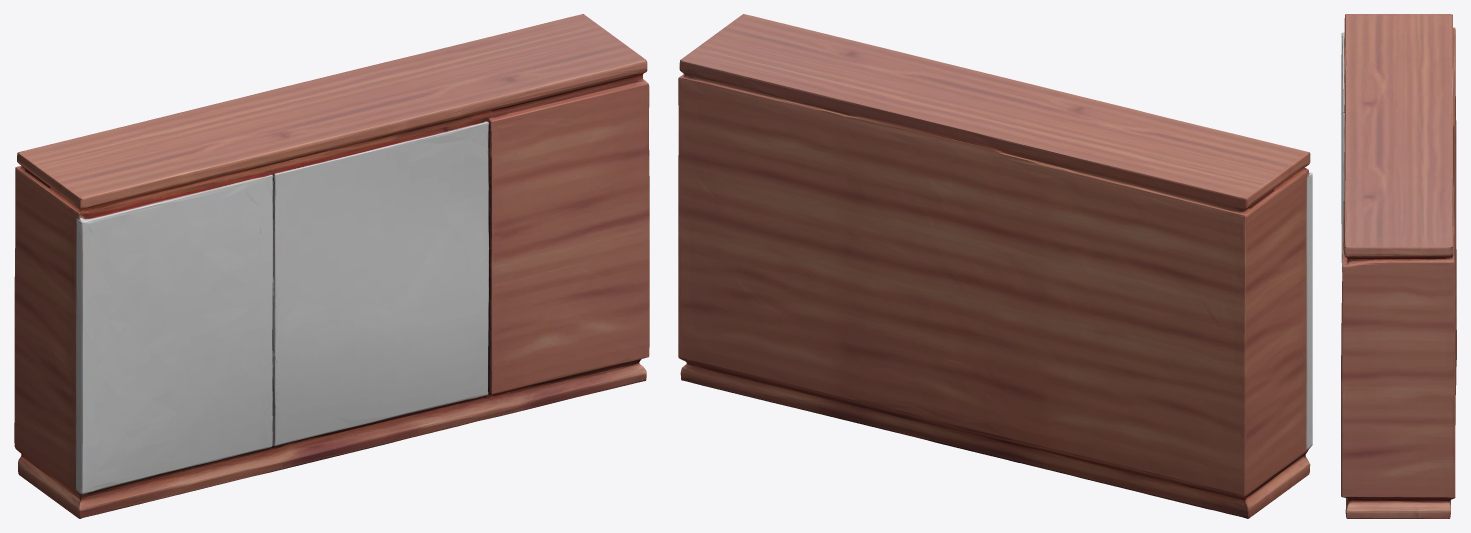
File: 19aa903d-72b0-4581-b853-2878d1cca5c0.glb
3 renders of one model, left to right at view 1: azimuth 30°, elevation 25°; view 2: azimuth 150°, elevation 25°; view 3: azimuth 270°, elevation 25°, orthographic. The views are drawn at different scales.
Parts seen in each view (by area): view 1: world; view 2: world; view 3: world.
Boxes of the visible parts, x1,y1,x2,y2 form: world: (14, 14, 649, 518); world: (678, 14, 1312, 518); world: (1341, 14, 1456, 518).
Size of the model in its own units: 1 by 0.5425 by 0.2089.
1 material, 1 textured.
